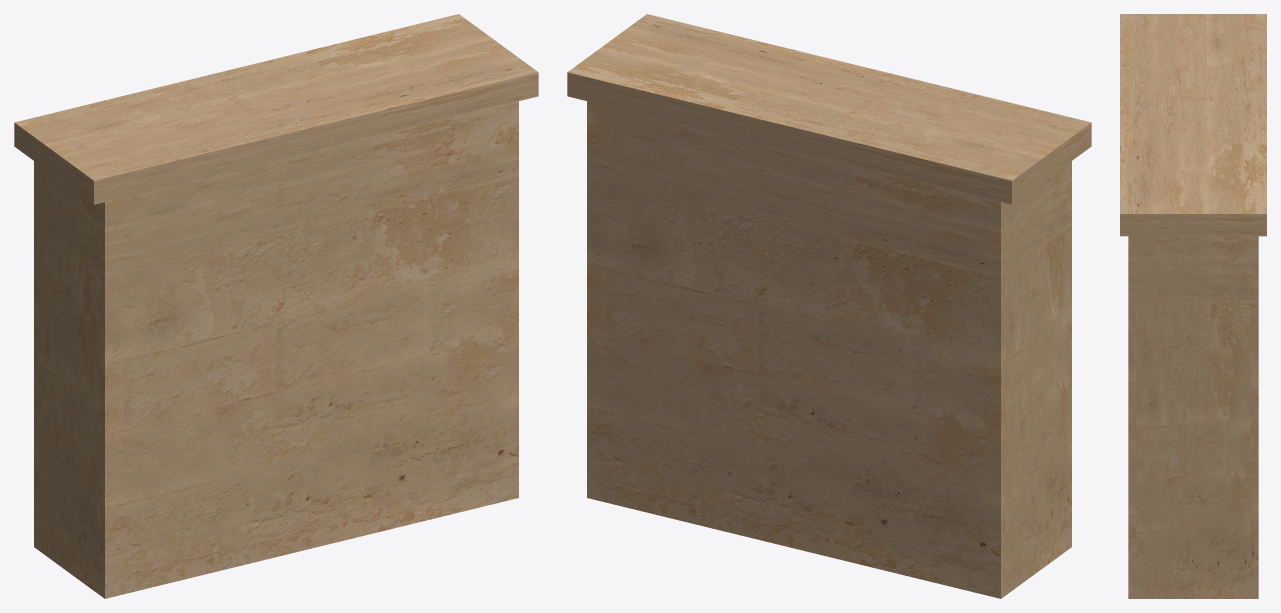
Rendered from gate_tunnel.gltf.
The picture shows the model from 3 angles, left to right: view 1: azimuth 30°, elevation 25°; view 2: azimuth 150°, elevation 25°; view 3: azimuth 270°, elevation 25°; orthographic projection. The views are drawn at different scales.
Parts seen in each view (by area): view 1: COL_gate, gate_cap, gate_lintel, gate_pylon_w; view 2: COL_gate, gate_cap, gate_lintel, gate_pylon_w; view 3: gate_pylon_e, gate_cap, COL_gate, gate_lintel.
Part boxes in pixels (bbox=[...]): COL_gate: bbox=[34, 101, 518, 598]; gate_cap: bbox=[14, 14, 538, 204]; gate_lintel: bbox=[34, 101, 518, 277]; gate_pylon_w: bbox=[38, 230, 100, 589]; COL_gate: bbox=[587, 101, 1071, 598]; gate_cap: bbox=[567, 14, 1091, 204]; gate_lintel: bbox=[587, 101, 1071, 277]; gate_pylon_w: bbox=[1005, 246, 1048, 592]; gate_pylon_e: bbox=[1136, 303, 1250, 598]; gate_cap: bbox=[1120, 14, 1266, 236]; COL_gate: bbox=[1128, 236, 1258, 598]; gate_lintel: bbox=[1128, 236, 1258, 303].
Bounding box in the file's own units: 5.8 × 5.3 × 1.8.
1 material, 1 textured.
